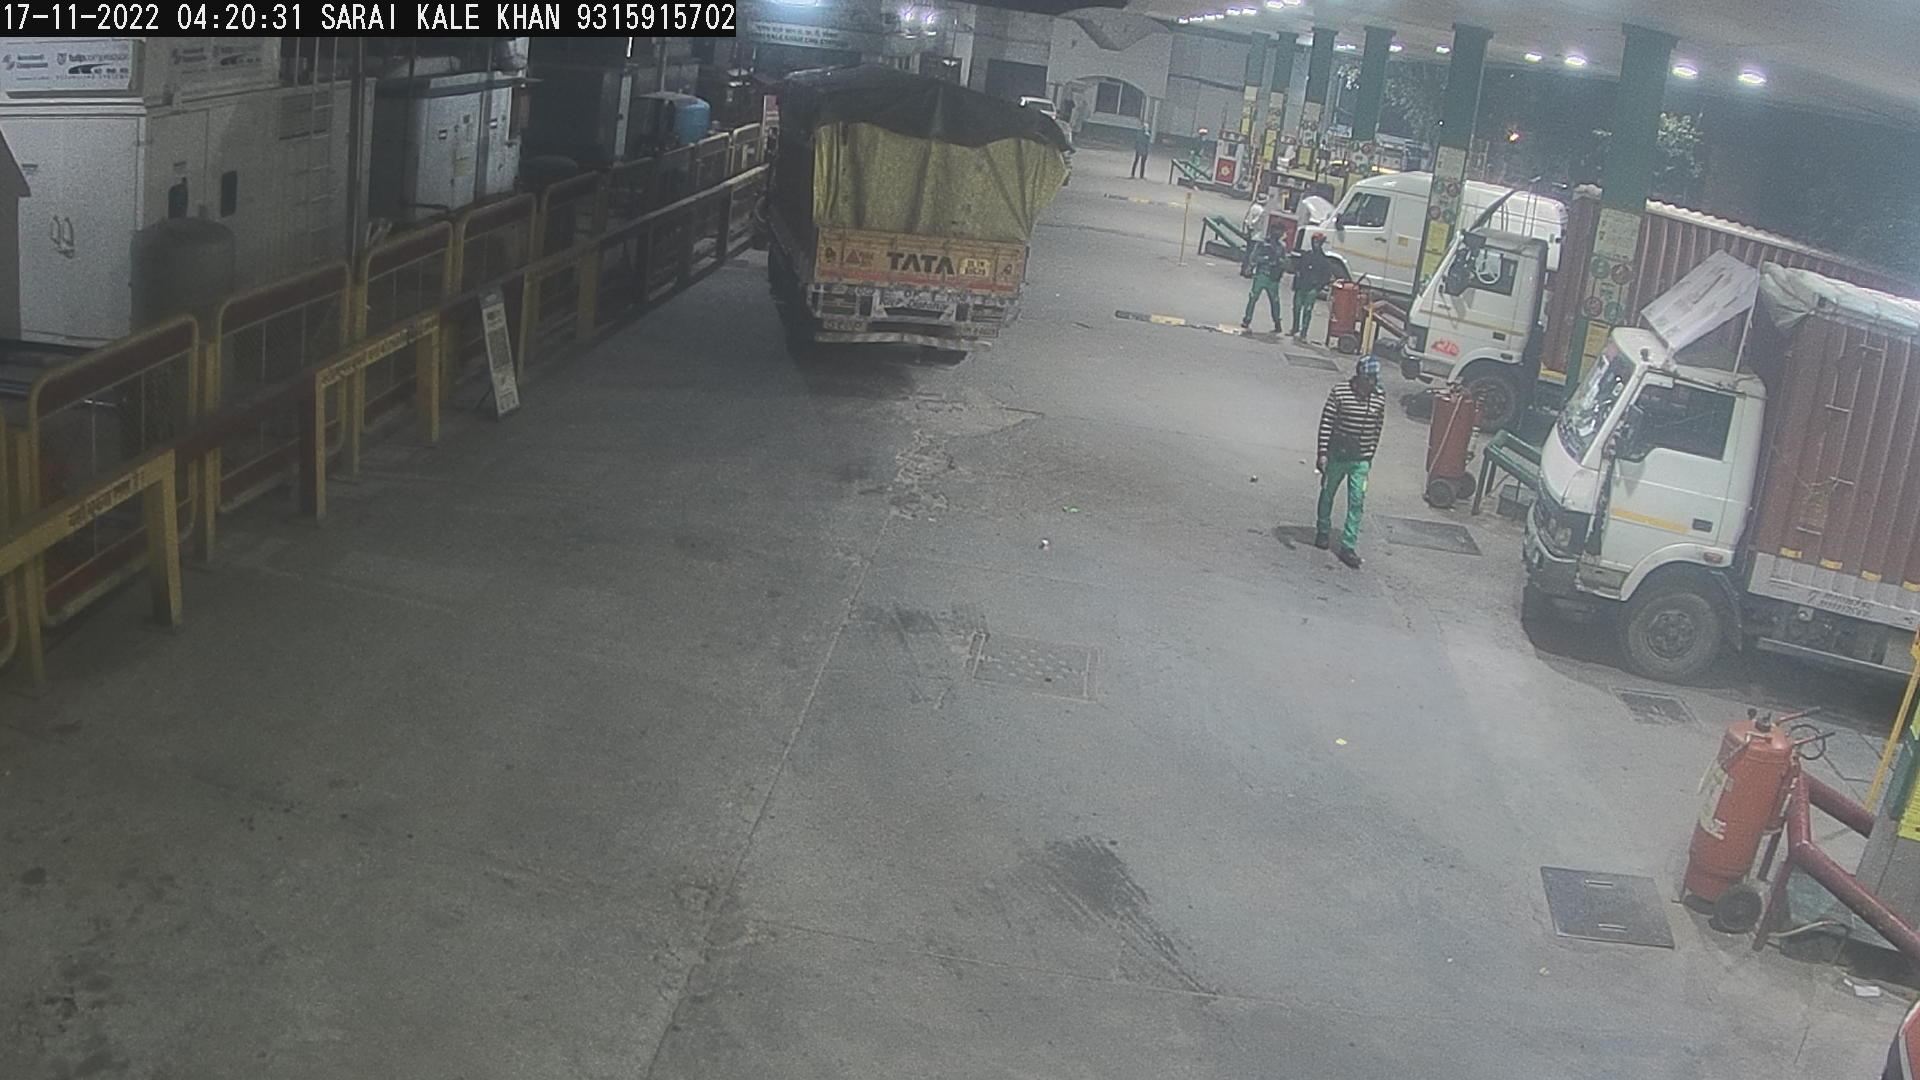Auto: (1241, 140, 1365, 241)
Car: (1004, 83, 1087, 158)
HMV: (1482, 229, 1917, 717), (733, 41, 1088, 394), (1389, 156, 1639, 444), (1257, 160, 1458, 342), (1855, 965, 1915, 1077)
Others: (1299, 349, 1394, 575), (1237, 218, 1294, 340), (1284, 219, 1335, 351)
Others Other: (1845, 597, 1920, 848), (1356, 264, 1393, 373), (1168, 175, 1203, 278)
